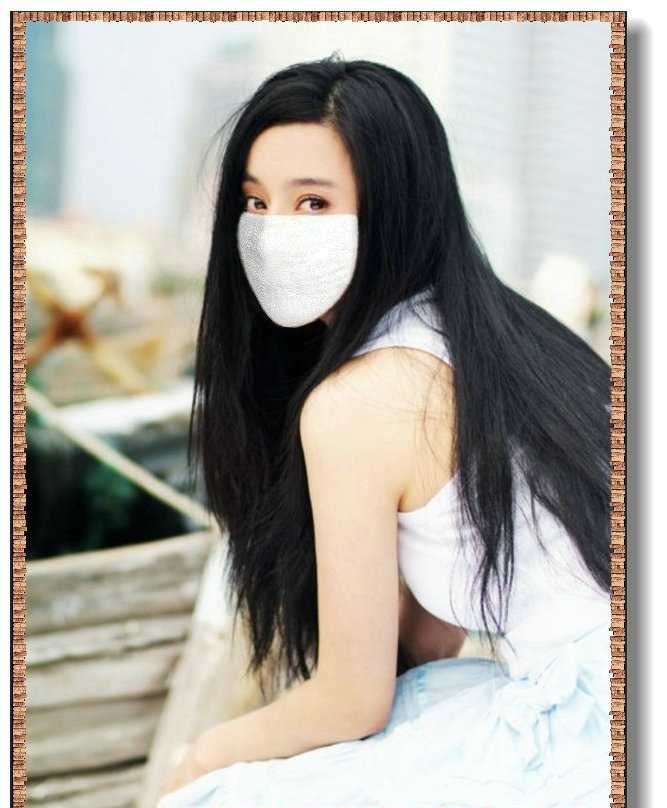face_mask: (238, 118, 361, 328)
